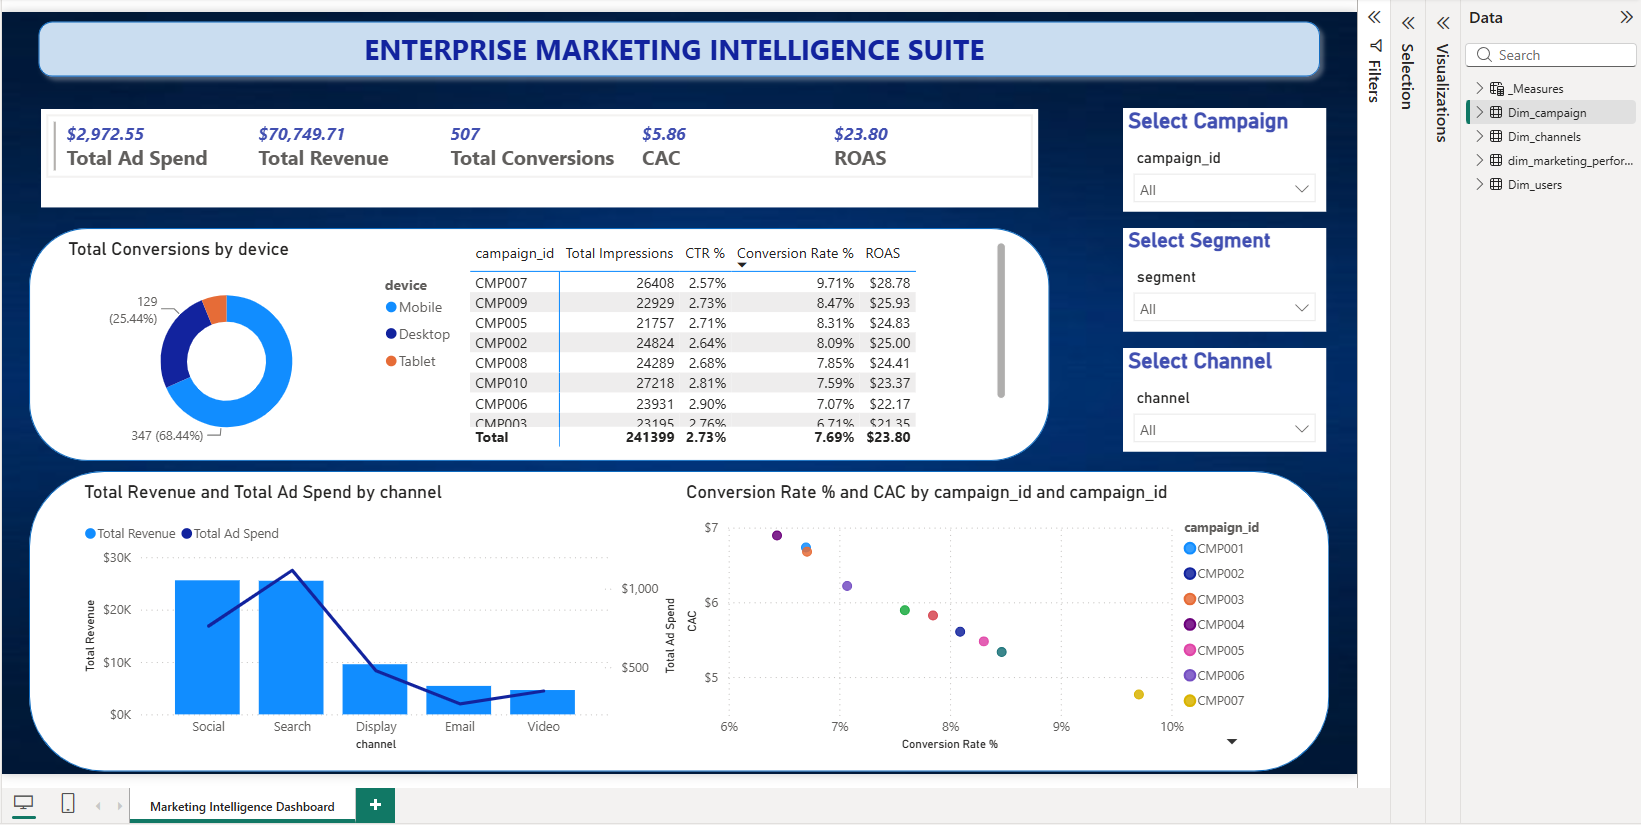

What the dashboard file says about the page in this screenshot:
{"tool":"powerbi","page":{"name":"Marketing Intelligence Dashboard","canvas":[1280,720],"ordinal":0},"visuals":[{"type":"shape","box":[25.7,0,1228.5,70.1],"z":0},{"type":"textbox","box":[337.5,11.4,605,47.2],"z":1000},{"type":"shape","box":[25.8,434,1228.4,284],"z":2000},{"type":"slicer","title":"Select Channel","fields":{"Values":["Dim_channels.channel"]},"box":[1058.7,317.2,191.8,98.4],"z":3000},{"type":"slicer","title":"Select Campaign","fields":{"Values":["Dim_campaign.campaign_id"]},"box":[1058.7,91,191.8,98.4],"z":4000},{"type":"slicer","title":"Select Segment","fields":{"Values":["dim_marketing_performance.segment"]},"box":[1058.7,204.1,191.8,98.4],"z":5000},{"type":"shape","box":[25.8,204.1,964,220.1],"z":6000},{"type":"lineClusteredColumnComboChart","fields":{"Category":["Dim_channels.channel"],"Y2":["_Measures.Total Ad Spend"],"Y":["_Measures.Total Revenue"]},"box":[72.5,442.7,569.3,259.4],"z":7000},{"type":"scatterChart","fields":{"X":["_Measures.Conversion Rate %"],"Y":["_Measures.CAC"],"Category":["Dim_campaign.campaign_id"],"Series":["Dim_campaign.campaign_id"]},"box":[641.8,442.7,569.3,259.4],"z":8000},{"type":"donutChart","fields":{"Y":["_Measures.Total Conversions"],"Category":["dim_marketing_performance.device"]},"box":[57.8,213.9,379.9,202.9],"z":9000},{"type":"pivotTable","fields":{"Rows":["Dim_campaign.campaign_id"],"Values":["_Measures.Total Impressions","_Measures.CTR %","_Measures.Conversion Rate %","_Measures.ROAS"]},"box":[437.7,212.7,516.4,202.9],"z":10000},{"type":"multiRowCard","fields":{"Values":["_Measures.Total Ad Spend","_Measures.Total Revenue","_Measures.Total Conversions","_Measures.CAC","_Measures.ROAS"]},"box":[37.2,91.5,942.5,93],"z":11000}]}

Visuals, with their boxes on the page's 1280x720 design canvas (x1, y1, x2, y2). These are canvas units, not pixel positions in the 1641x825 screenshot, which may show the page scaled, cropped or inside an application window:
shape: (x1=26, y1=0, x2=1254, y2=70)
textbox: (x1=338, y1=11, x2=942, y2=59)
shape: (x1=26, y1=434, x2=1254, y2=718)
"Select Channel" slicer: (x1=1059, y1=317, x2=1250, y2=416)
"Select Campaign" slicer: (x1=1059, y1=91, x2=1250, y2=189)
"Select Segment" slicer: (x1=1059, y1=204, x2=1250, y2=302)
shape: (x1=26, y1=204, x2=990, y2=424)
lineClusteredColumnComboChart - Dim_channels.channel x _Measures.Total Ad Spend: (x1=72, y1=443, x2=642, y2=702)
scatterChart - _Measures.Conversion Rate % x _Measures.CAC: (x1=642, y1=443, x2=1211, y2=702)
donutChart - _Measures.Total Conversions x dim_marketing_performance.device: (x1=58, y1=214, x2=438, y2=417)
pivotTable - Dim_campaign.campaign_id x _Measures.Total Impressions: (x1=438, y1=213, x2=954, y2=416)
multiRowCard - _Measures.Total Ad Spend x _Measures.Total Revenue: (x1=37, y1=92, x2=980, y2=184)
